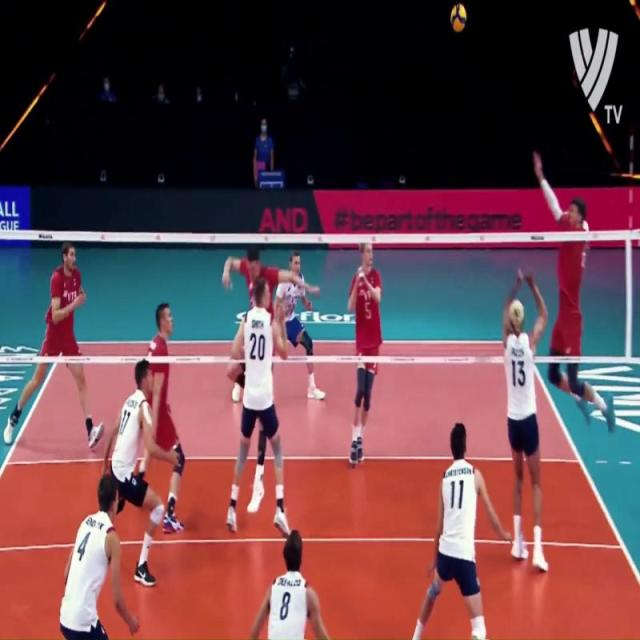volleyball: (449, 3, 467, 33)
